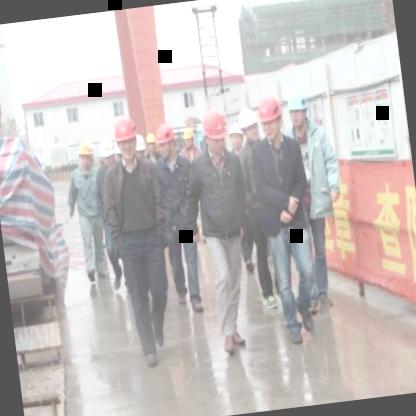helmet: (198, 104, 232, 158), (255, 94, 286, 142), (112, 116, 141, 165), (283, 84, 311, 134), (94, 134, 118, 175), (156, 120, 180, 160), (238, 106, 260, 146), (74, 136, 96, 174), (226, 120, 246, 156), (180, 120, 199, 156), (144, 130, 160, 160)
